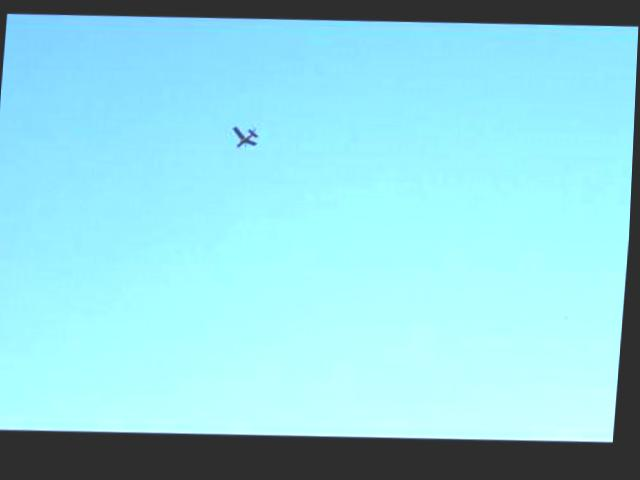uav: (231, 125, 261, 151)
